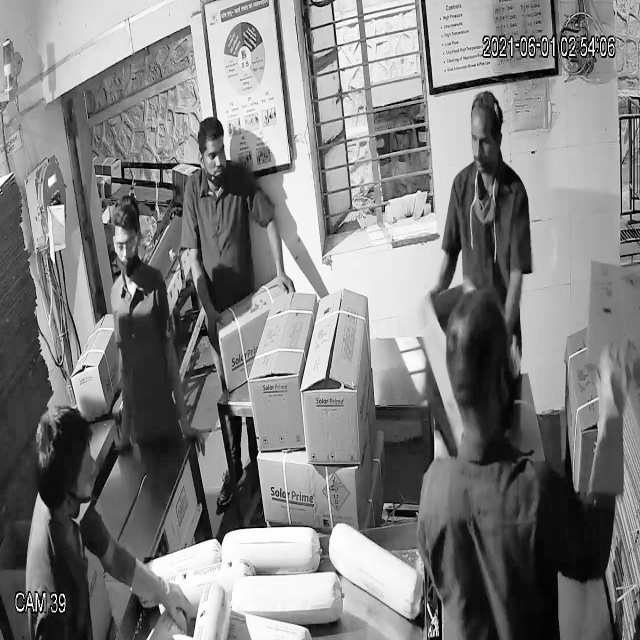Gafas: (107, 225, 143, 263)
Sin_gafas: (465, 124, 502, 159)
